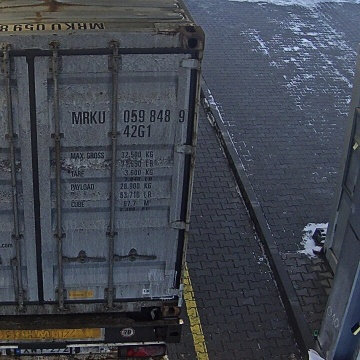serial_id: (72, 109, 185, 124)
